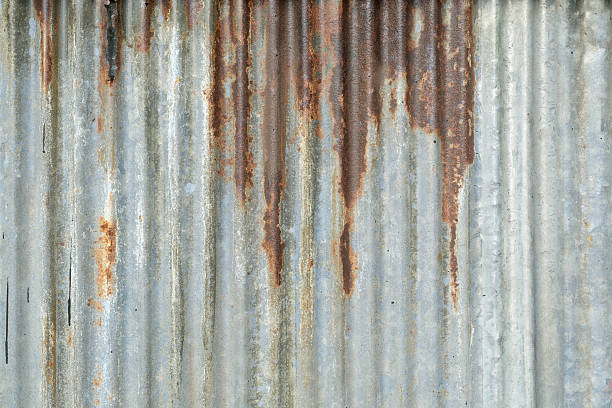rust: (198, 6, 474, 308), (22, 8, 206, 70), (95, 218, 131, 324)
